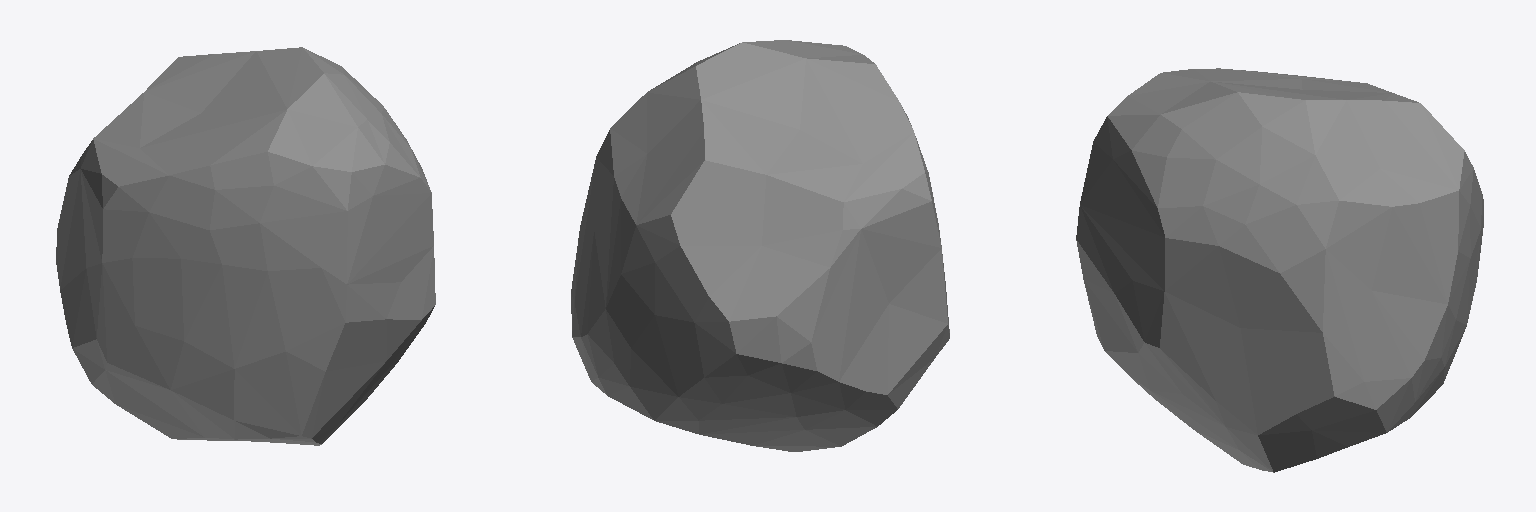
The picture shows the model from 3 angles: view 1: azimuth 30°, elevation 25°; view 2: azimuth 150°, elevation 25°; view 3: azimuth 270°, elevation 25°; orthographic projection.
Visible parts, largest first — view 1: roca_Cube.051; view 2: roca_Cube.051; view 3: roca_Cube.051.
Boxes of the visible parts, x1,y1,x2,y2 form: roca_Cube.051: [56, 47, 435, 445]; roca_Cube.051: [571, 40, 949, 451]; roca_Cube.051: [1076, 68, 1483, 472].
Size of the model in its own units: 13.65 by 14.35 by 14.2.
Materials: 1 (1 with a texture image).